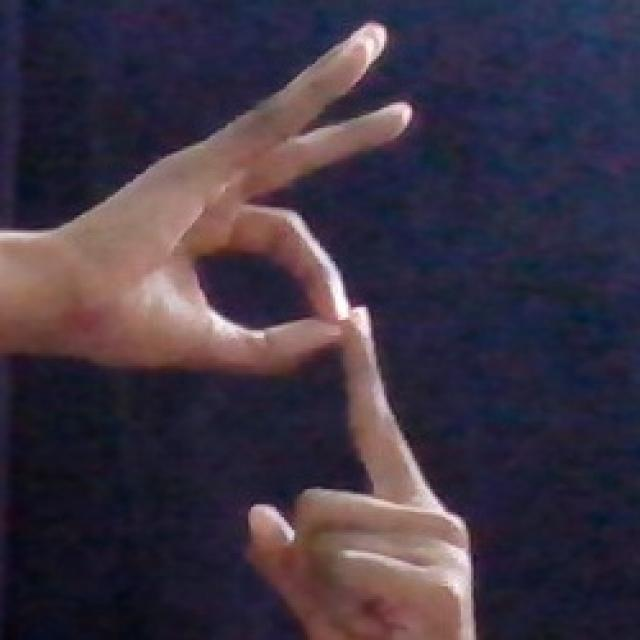Alphabet-P: (88, 19, 497, 640)
